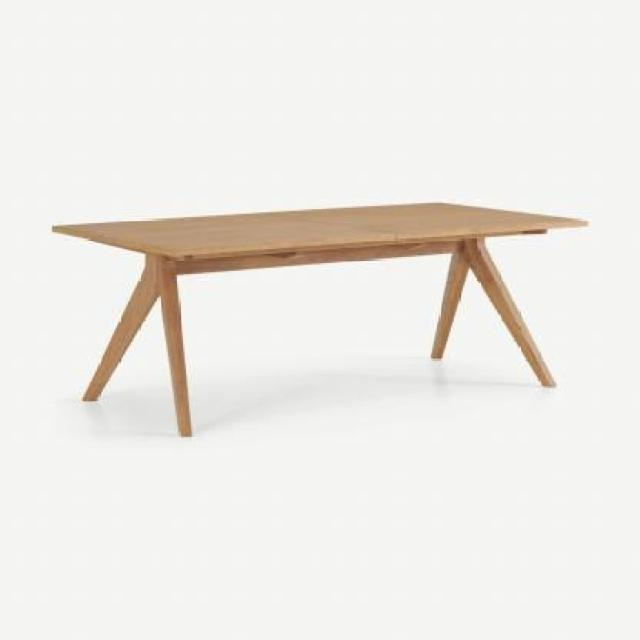tables: (51, 198, 589, 437)
